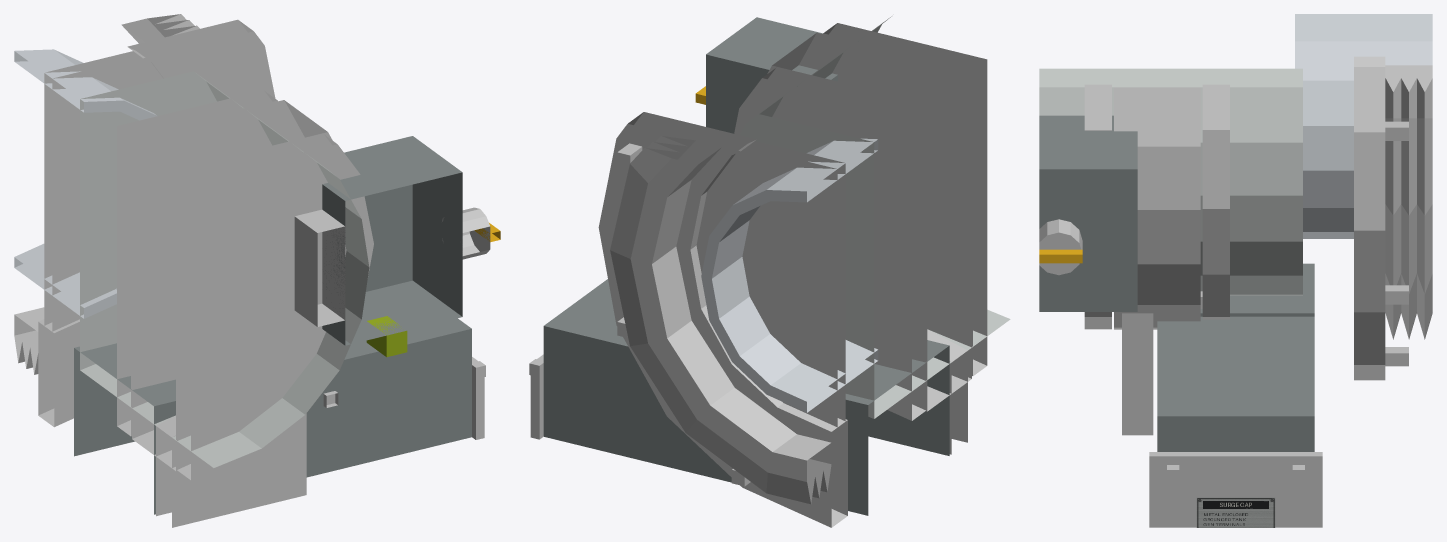
File: cell_29.obj
3 renders of one model, left to right at view 1: azimuth 30°, elevation 25°; view 2: azimuth 150°, elevation 25°; view 3: azimuth 270°, elevation 25°, orthographic. The views are drawn at different scales.
Size of the model in its own units: 0.975 by 1 by 1.
